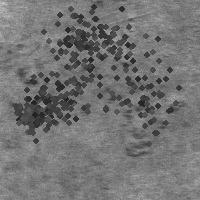rolled-in_scale: (88, 45, 198, 155), (51, 0, 165, 101), (11, 42, 113, 144), (36, 0, 122, 82), (102, 86, 189, 160), (4, 78, 66, 140), (1, 40, 46, 112), (3, 89, 55, 141)
